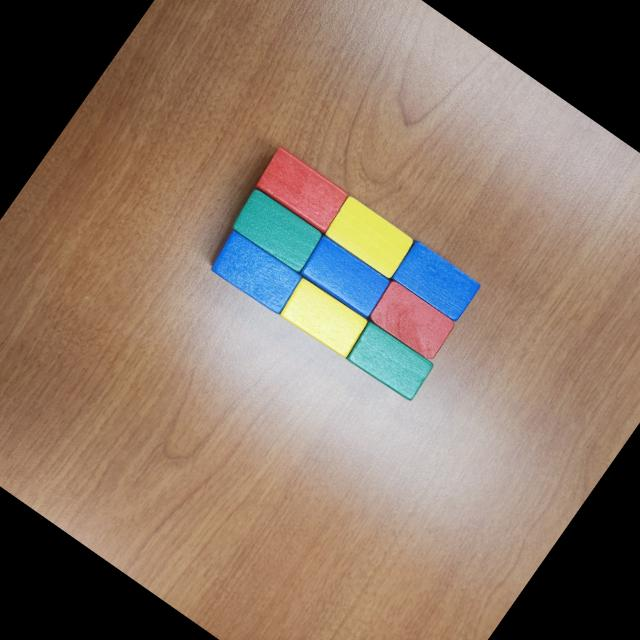blue: (203, 225, 306, 318), (296, 232, 394, 321), (386, 238, 482, 326)
green: (225, 184, 326, 276), (342, 318, 437, 404)
red: (252, 144, 352, 234), (366, 279, 456, 361)
yellow: (321, 192, 416, 280), (276, 274, 370, 360)
